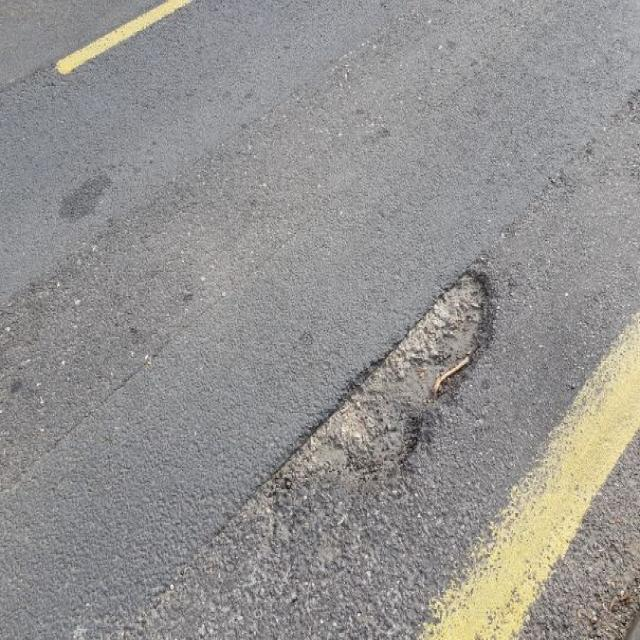Pothole: (258, 259, 503, 502)
